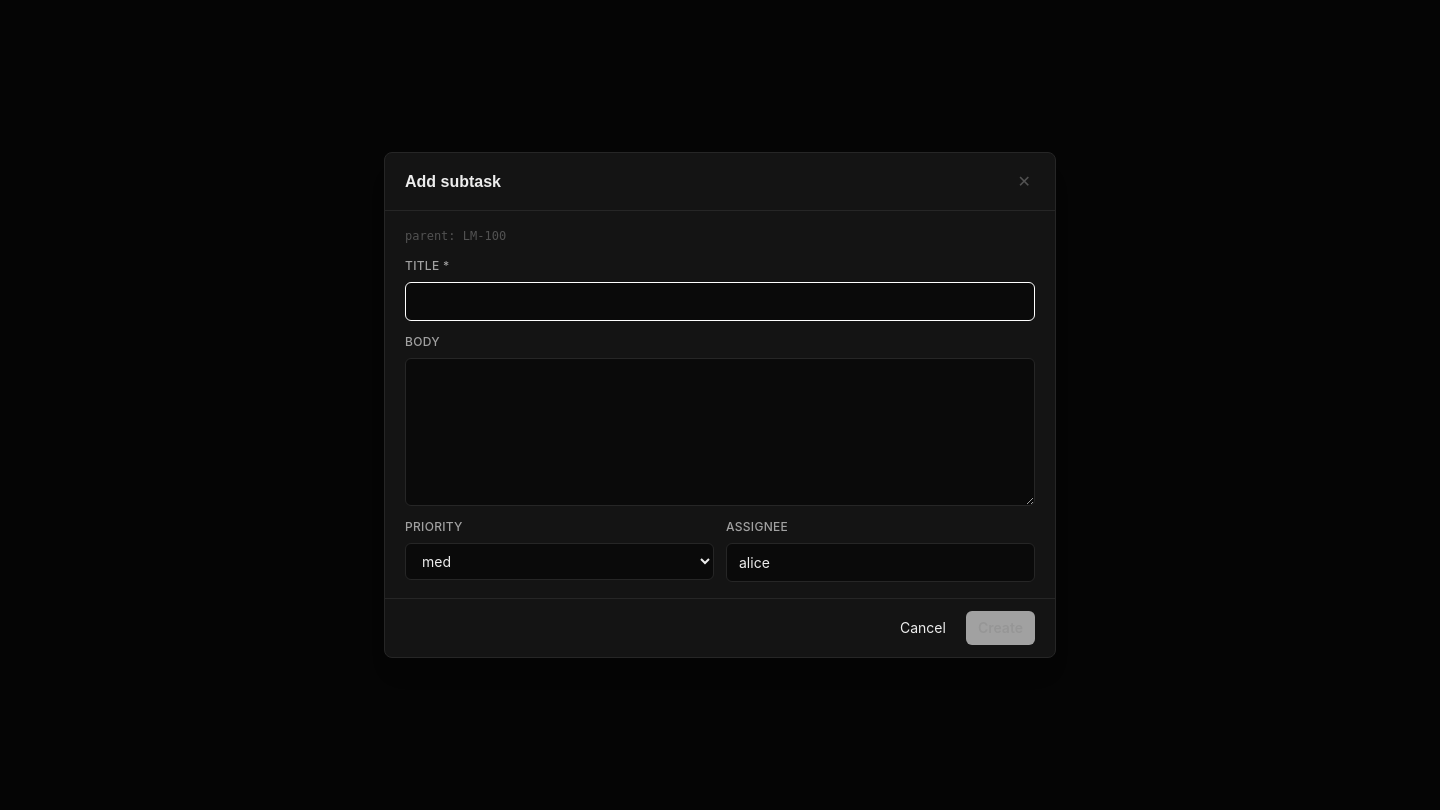
Scenario: SubtaskCreateModal › surfaces daemon errors and keeps modal open
In the field with test id "subtask-create-title": (720, 302) x1=405 y1=282 x2=1035 y2=322, type "x"
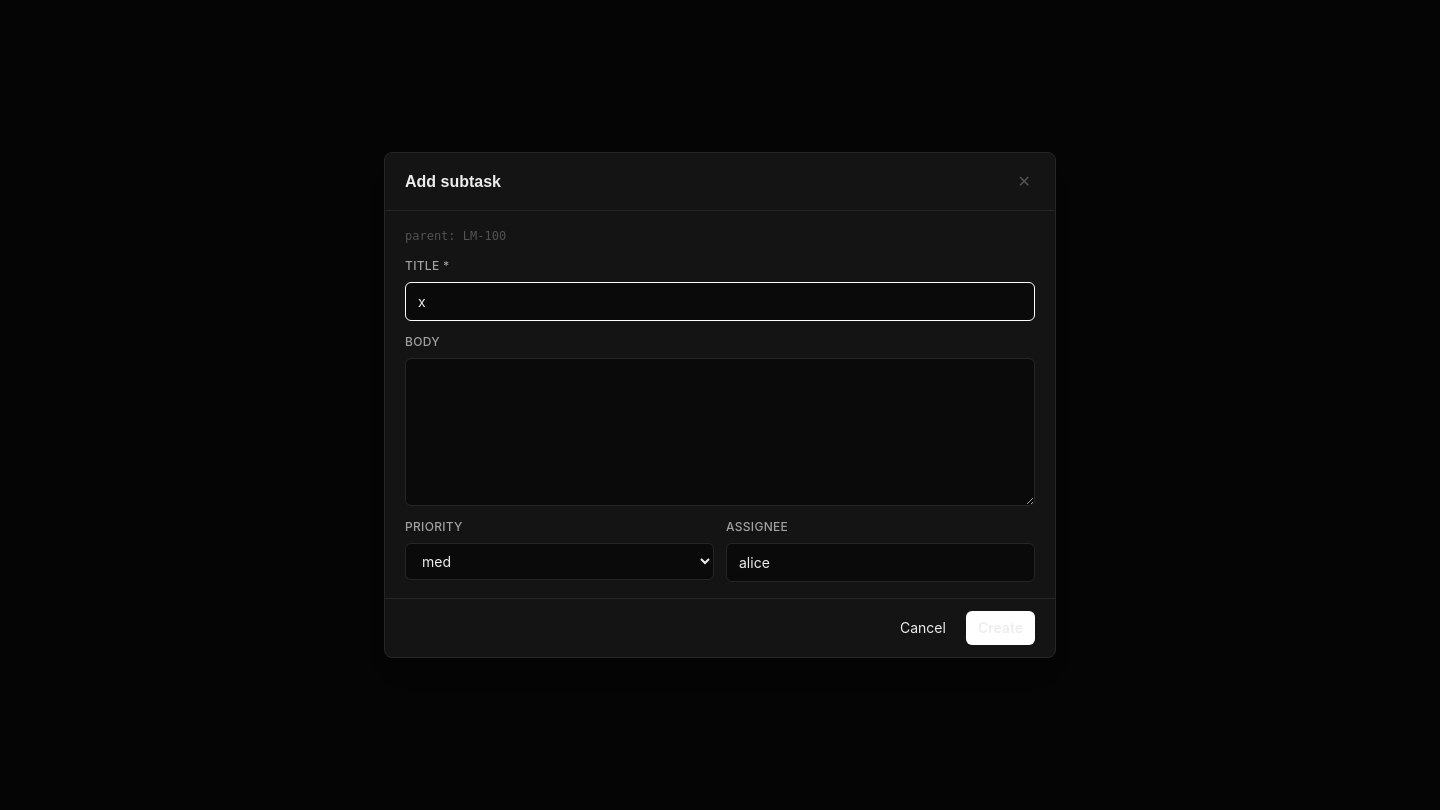
Click the button with test id "subtask-create-submit": (1000, 628) x1=966 y1=612 x2=1035 y2=645
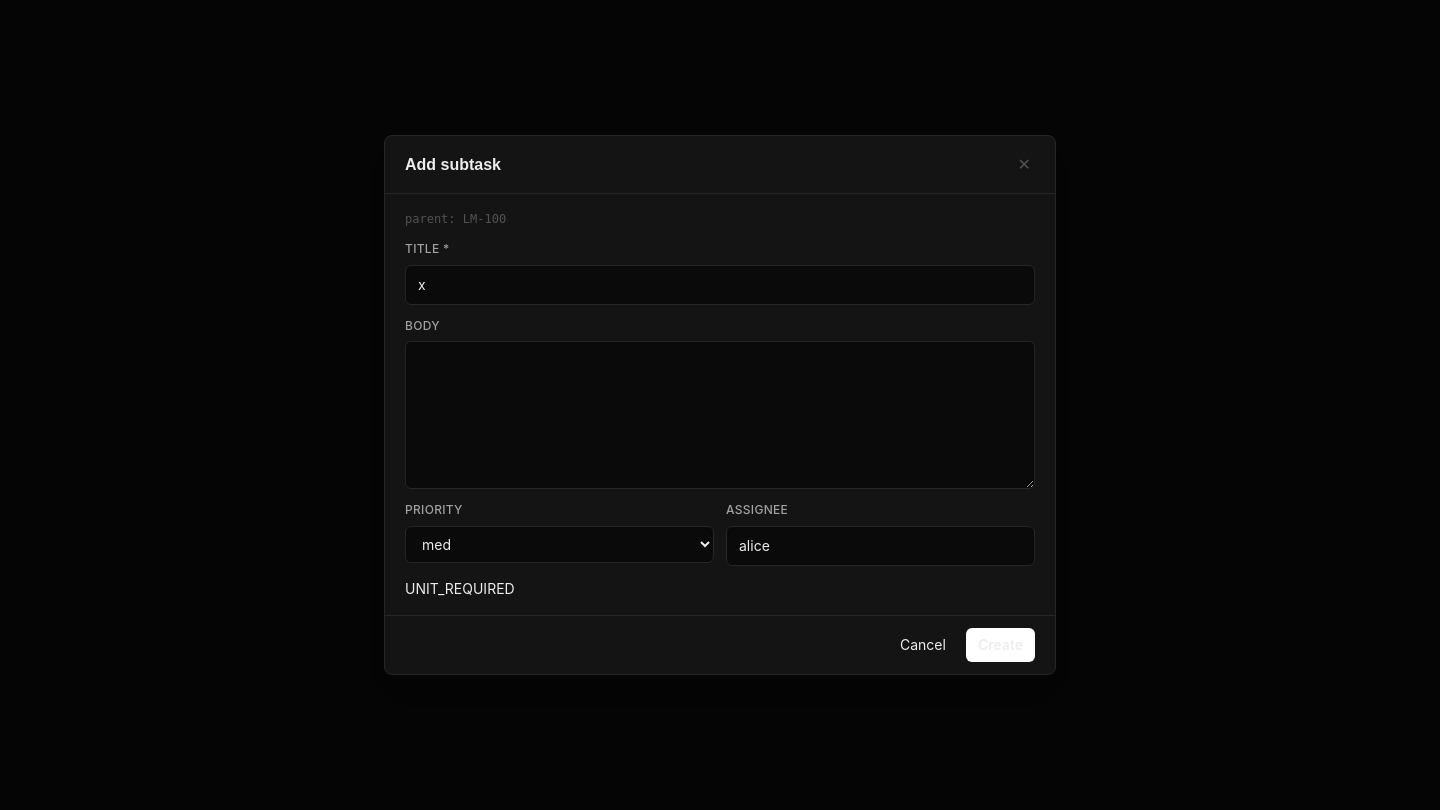
Expected: the message with test id "subtask-create-error" reads "UNIT_REQUIRED", x1=405 y1=580 x2=515 y2=597
